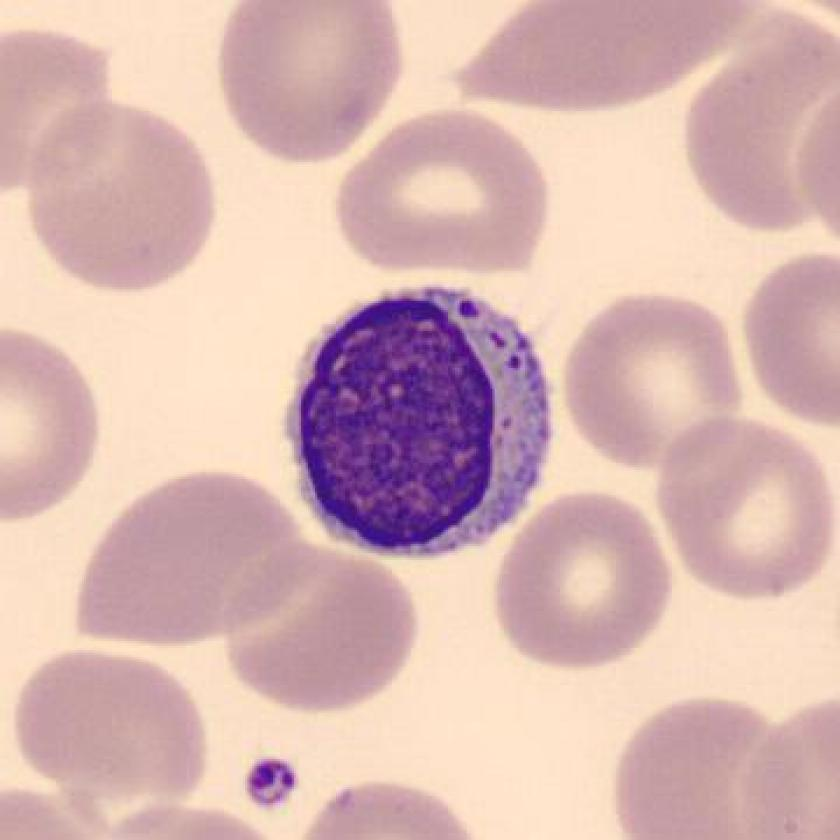lymphocyte: (284, 277, 571, 573)
